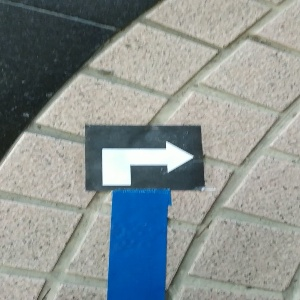right: (86, 124, 204, 190)
